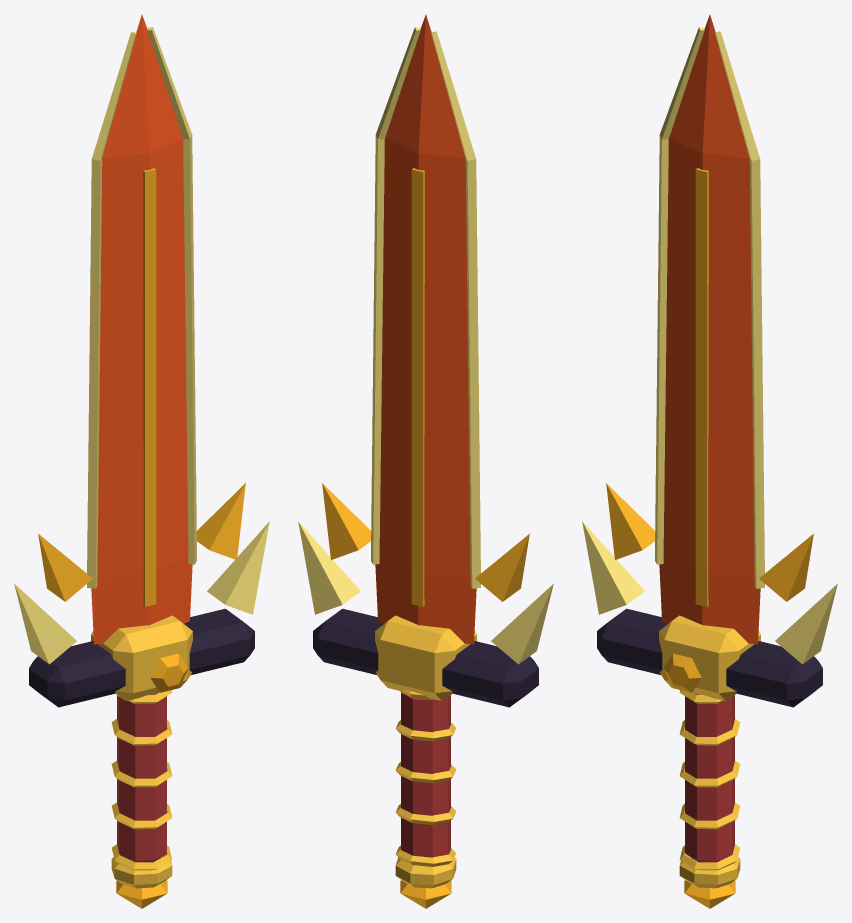
The model's file is FlameSword.fbx.
3 renders of one model, left to right at view 1: azimuth 30°, elevation 25°; view 2: azimuth 150°, elevation 25°; view 3: azimuth 330°, elevation 25°, orthographic.
Visible parts, largest first — view 1: FlameSword; view 2: FlameSword; view 3: FlameSword.
Part boxes in pixels (x1=…): FlameSword: x1=14, y1=14, x2=269, y2=908; FlameSword: x1=298, y1=14, x2=553, y2=908; FlameSword: x1=582, y1=14, x2=837, y2=908.
Size of the model in its own units: 1.6 by 5.35 by 0.54.
Materials: 1 (1 with a texture image).
